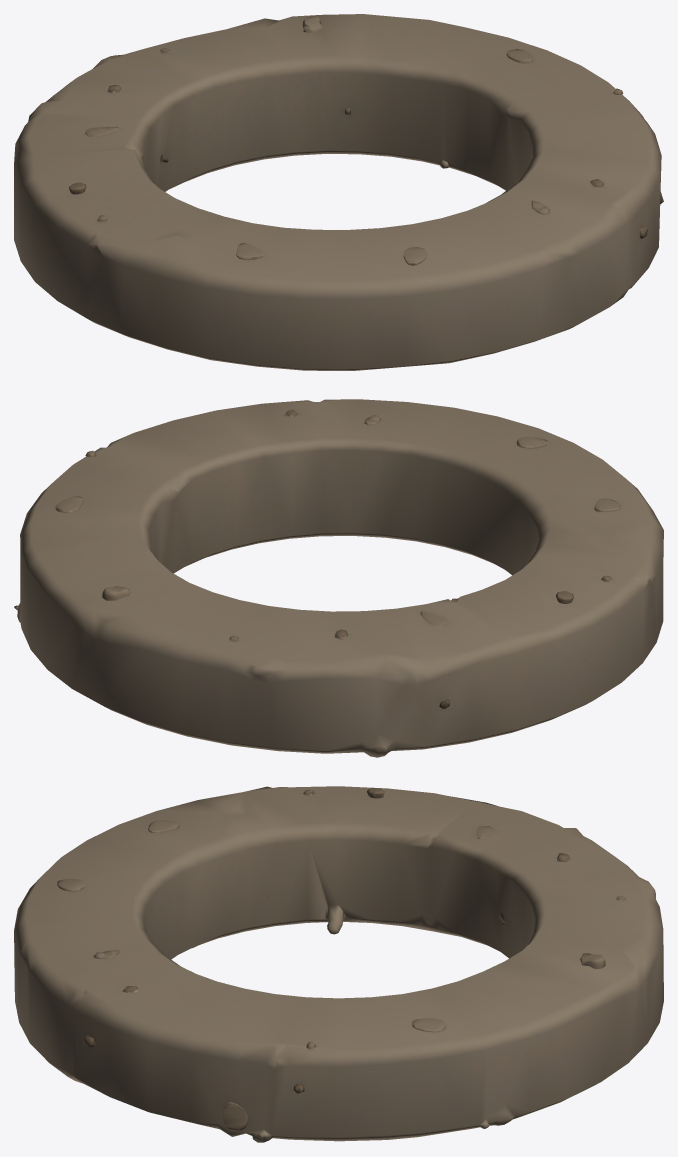
The model's file is disk_washer.glb.
3 views of the same model, one above another, from view 1: azimuth 30°, elevation 25°; view 2: azimuth 150°, elevation 25°; view 3: azimuth 270°, elevation 25° (orthographic).
Parts seen in each view (by area): view 1: tripo_node_e780ba7c-6df0-4c0c-8d12-ab532be485df; view 2: tripo_node_e780ba7c-6df0-4c0c-8d12-ab532be485df; view 3: tripo_node_e780ba7c-6df0-4c0c-8d12-ab532be485df.
Boxes of the visible parts, x1,y1,x2,y2 form: tripo_node_e780ba7c-6df0-4c0c-8d12-ab532be485df: (14,14,663,370); tripo_node_e780ba7c-6df0-4c0c-8d12-ab532be485df: (14,399,663,757); tripo_node_e780ba7c-6df0-4c0c-8d12-ab532be485df: (14,786,663,1142).
Bounding box in the file's own units: 0.9995 × 0.1802 × 0.9976.
1 material, 1 textured.
